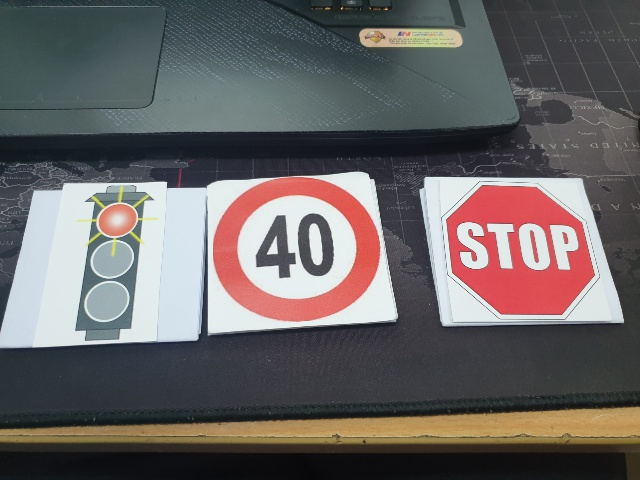Limit 40: (214, 179, 382, 316)
Red Light: (68, 184, 161, 341)
Stop: (443, 182, 599, 317)
